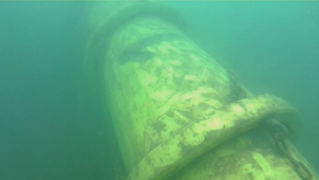1: (118, 32, 191, 62)
pipe: (83, 1, 318, 179)
